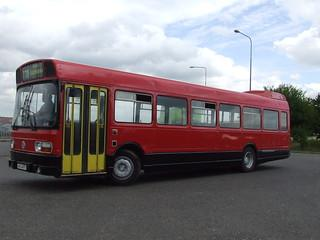bus: (10, 57, 291, 189)
